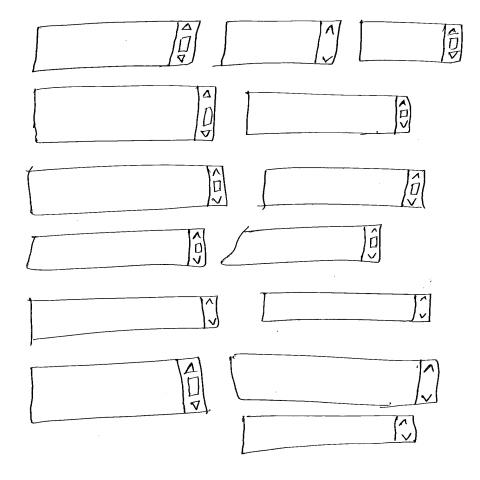Textarea: (28, 357, 210, 425), (230, 354, 442, 409), (33, 85, 218, 145), (27, 164, 230, 218), (31, 20, 203, 74), (30, 296, 220, 342), (25, 228, 208, 272), (245, 92, 413, 136), (241, 416, 418, 456), (262, 167, 428, 209), (221, 224, 383, 267), (220, 20, 343, 68), (261, 293, 434, 324), (359, 21, 465, 65)
